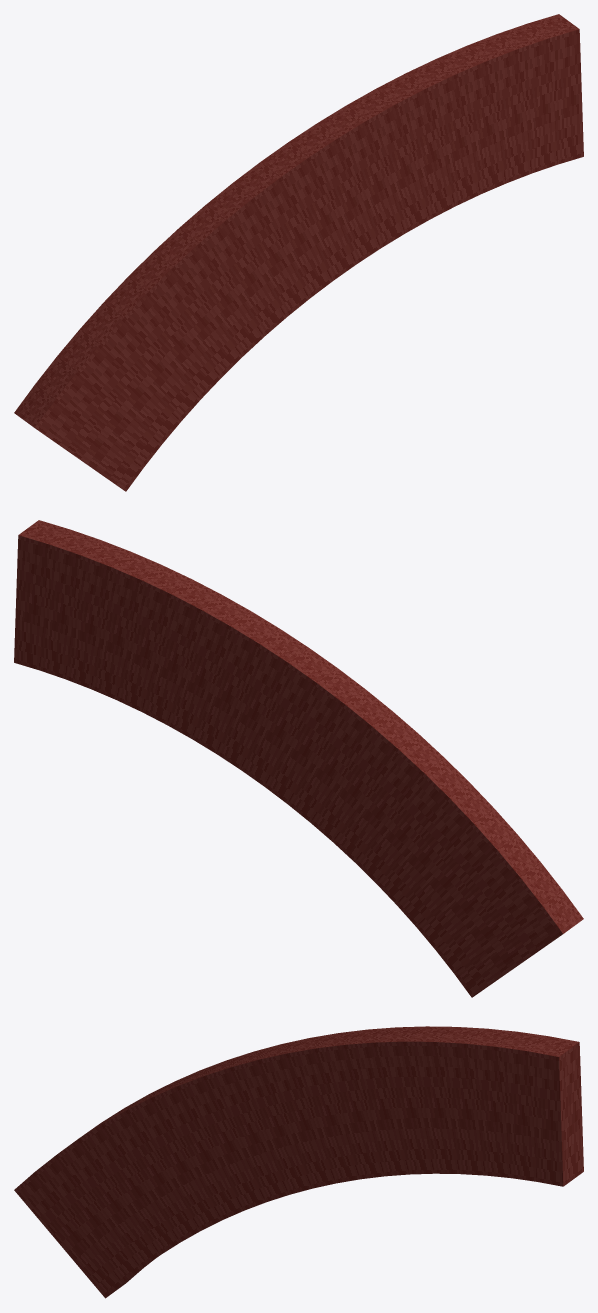
Rendered from destiny_door_controller_red_dim_offset_1.obj.
3 views of the same model, one above another, from view 1: azimuth 30°, elevation 25°; view 2: azimuth 150°, elevation 25°; view 3: azimuth 330°, elevation 25° (orthographic).
Visible parts, largest first — view 1: Destiny_airlock_controller; view 2: Destiny_airlock_controller; view 3: Destiny_airlock_controller.
Boxes of the visible parts, left/top/right/bottom form: Destiny_airlock_controller: left=14, top=14, right=583, bottom=491; Destiny_airlock_controller: left=14, top=520, right=583, bottom=997; Destiny_airlock_controller: left=14, top=1026, right=583, bottom=1298.
Bounding box in the file's own units: 0.1613 × 0.0988 × 0.0105.
